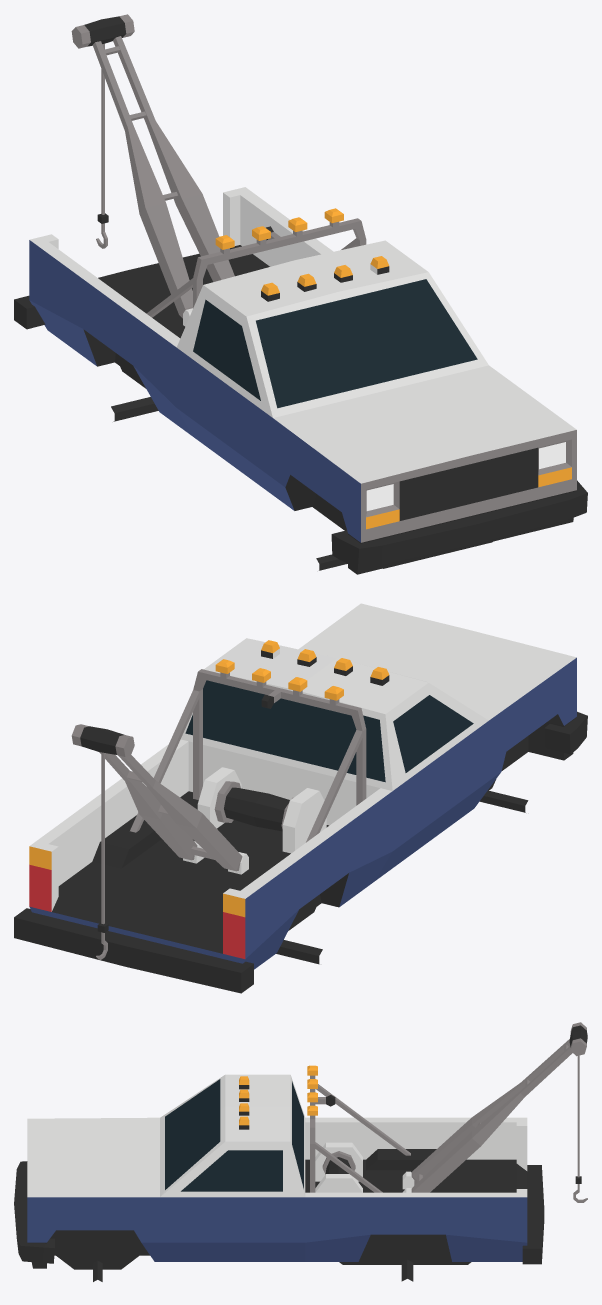
Rendered from car-tow-truck-base.glb.
3 views of the same model, one above another, from view 1: azimuth 30°, elevation 25°; view 2: azimuth 150°, elevation 25°; view 3: azimuth 270°, elevation 25° (orthographic). The views are drawn at different scales.
Parts seen in each view (by area): view 1: car-tow-truck-base; view 2: car-tow-truck-base; view 3: car-tow-truck-base.
Boxes of the visible parts, x1,y1,x2,y2 form: car-tow-truck-base: (14,14,587,574); car-tow-truck-base: (14,603,587,993); car-tow-truck-base: (14,1022,587,1281).
Size of the model in its own units: 1.96 by 2.3 by 5.43.
Materials: 1 (1 with a texture image).
